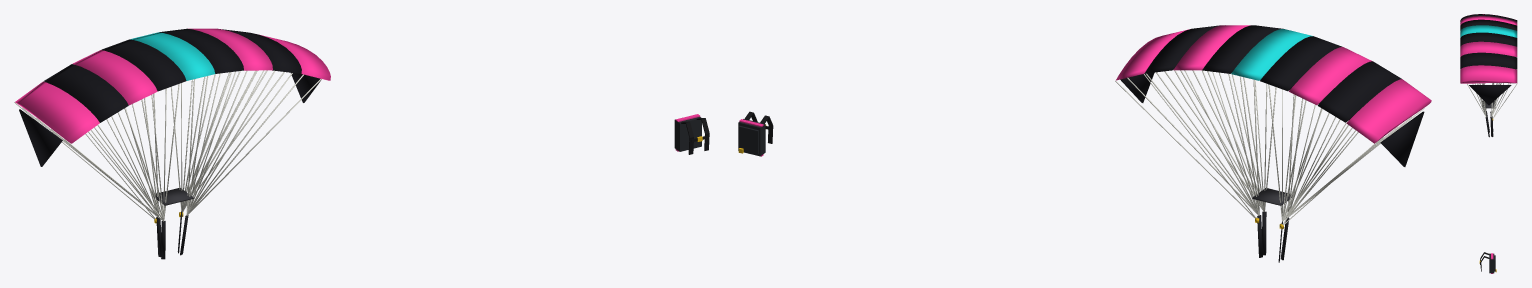
The model's file is Parachute.glb.
3 renders of one model, left to right at view 1: azimuth 30°, elevation 25°; view 2: azimuth 150°, elevation 25°; view 3: azimuth 270°, elevation 25°, orthographic. The views are drawn at different scales.
Visible parts, largest first — view 1: Canopy_CanopyA, Canopy_Lines, Canopy_CanopyB, Canopy_CanopyC, ParachutePack_PackBody, Canopy_Risers, Canopy_Slider; view 2: Canopy_CanopyA, Canopy_Lines, Canopy_CanopyB, Canopy_CanopyC, ParachutePack_PackBody, Canopy_Risers; view 3: Canopy_CanopyA, Canopy_CanopyB, Canopy_CanopyC, Canopy_Lines, Canopy_Risers, ParachutePack_PackBody, Canopy_Slider, ParachutePack_Strap.
Boxes of the visible parts, box(x1,y1,x2,y2) form: Canopy_CanopyA: box(19, 28, 321, 166); Canopy_Lines: box(14, 70, 321, 221); Canopy_CanopyB: box(15, 28, 330, 143); Canopy_CanopyC: box(130, 32, 215, 80); ParachutePack_PackBody: box(674, 117, 701, 151); Canopy_Risers: box(156, 211, 188, 259); Canopy_Slider: box(154, 188, 193, 205); Canopy_CanopyA: box(1120, 25, 1424, 166); Canopy_Lines: box(1115, 70, 1424, 225); Canopy_CanopyB: box(1116, 25, 1431, 143); Canopy_CanopyC: box(1231, 29, 1312, 80); ParachutePack_PackBody: box(738, 119, 765, 156); Canopy_Risers: box(1257, 211, 1289, 262); Canopy_CanopyA: box(1460, 14, 1517, 105); Canopy_CanopyB: box(1460, 14, 1517, 83); Canopy_CanopyC: box(1460, 25, 1517, 37); Canopy_Lines: box(1467, 83, 1517, 118); Canopy_Risers: box(1485, 111, 1493, 137); ParachutePack_PackBody: box(1489, 253, 1495, 273); Canopy_Slider: box(1482, 101, 1495, 108); ParachutePack_Strap: box(1480, 252, 1489, 271).
Bounding box in the file's own units: 51.23 × 17.09 × 7.63.
